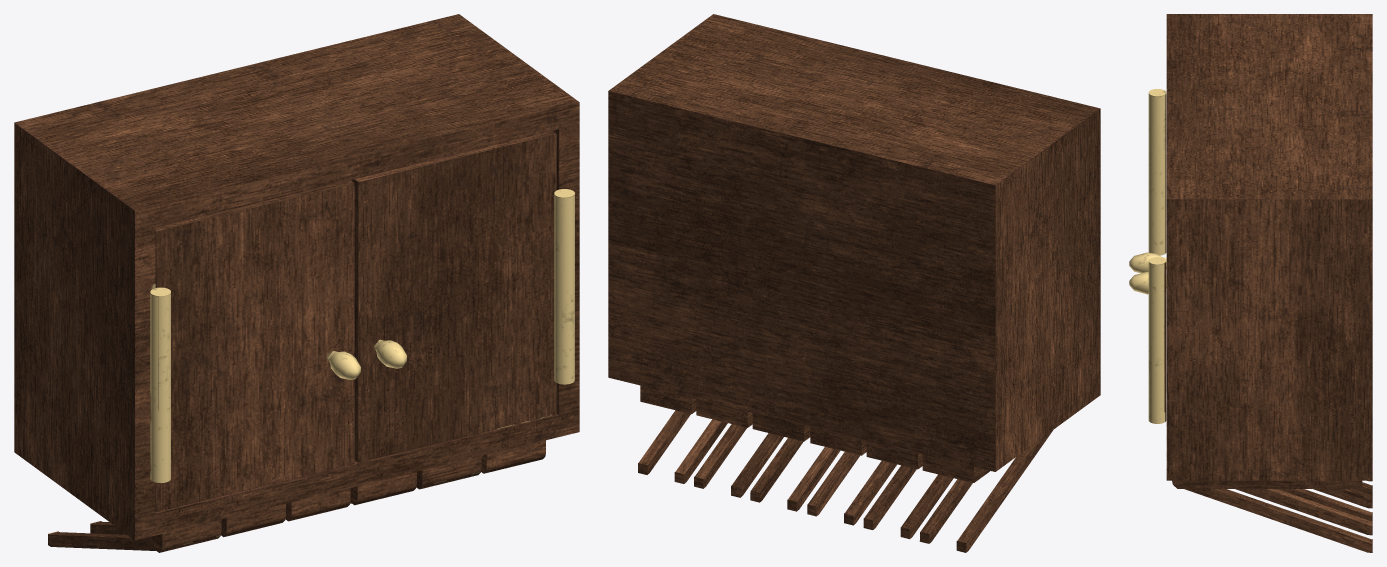
Rendered from uppershelves.fbx.
The picture shows the model from 3 angles, left to right: view 1: azimuth 30°, elevation 25°; view 2: azimuth 150°, elevation 25°; view 3: azimuth 270°, elevation 25°; orthographic projection. The views are drawn at different scales.
Parts seen in each view (by area): view 1: uppersheves; view 2: uppersheves; view 3: uppersheves.
Boxes of the visible parts, box(x1,y1,x2,y2) form: uppersheves: box(14, 14, 579, 552); uppersheves: box(608, 14, 1100, 552); uppersheves: box(1129, 14, 1372, 552).
Bounding box in the file's own units: 559 × 517 × 310.
